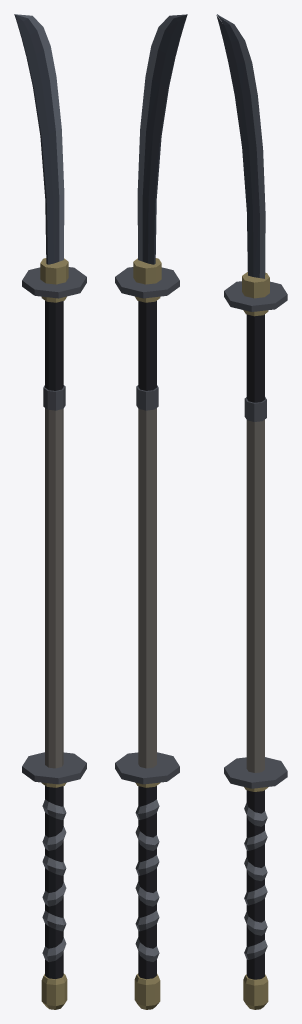
The model's file is samurai-naginata-279a42.glb.
3 views of the same model, side by side, from view 1: azimuth 30°, elevation 25°; view 2: azimuth 150°, elevation 25°; view 3: azimuth 330°, elevation 25° (orthographic).
Visible parts, largest first — view 1: naginata-body; view 2: naginata-body; view 3: naginata-body.
Part boxes in pixels (left/top/right/bottom): naginata-body: left=14, top=14, right=86, bottom=1009; naginata-body: left=115, top=14, right=187, bottom=1009; naginata-body: left=216, top=14, right=287, bottom=1009.
Bounding box in the file's own units: 0.1537 × 2.23 × 0.122.
